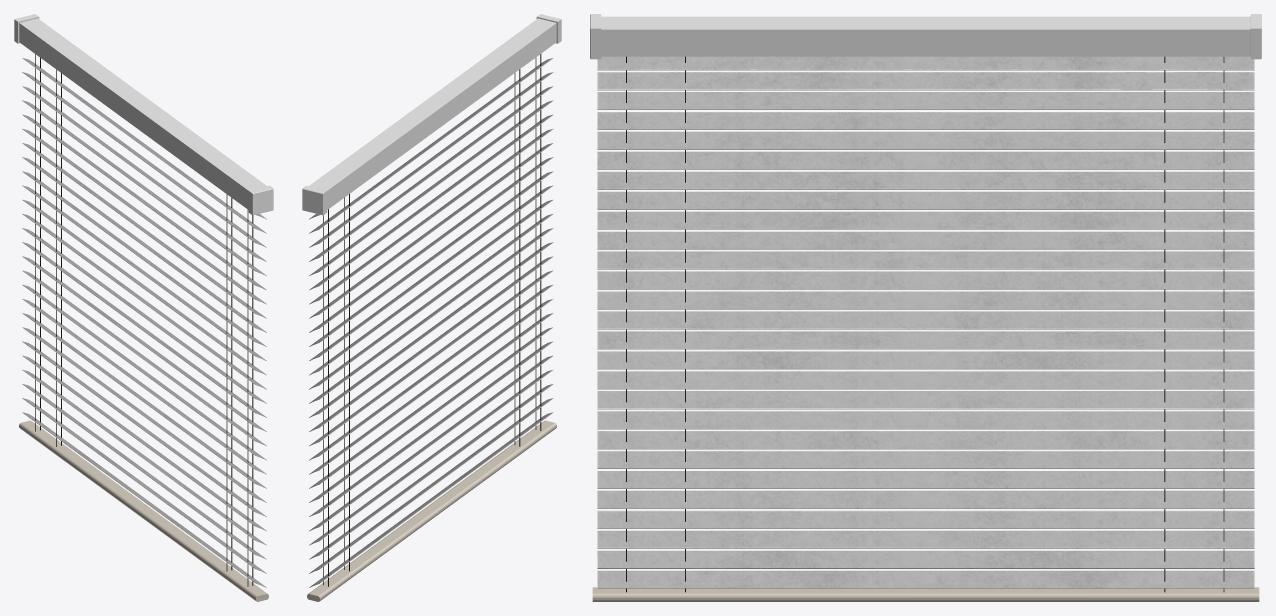
3 views of the same model, side by side, from view 1: azimuth 30°, elevation 25°; view 2: azimuth 150°, elevation 25°; view 3: azimuth 270°, elevation 25° (orthographic). The views are drawn at different scales.
Visible parts, largest first — view 1: Blinds; view 2: Blinds; view 3: Blinds.
Boxes of the visible parts, x1=… form: Blinds: x1=14, y1=14, x2=273, y2=601; Blinds: x1=302, y1=14, x2=561, y2=601; Blinds: x1=590, y1=14, x2=1261, y2=601.
Bounding box in the file's own units: 10.7 × 198 × 209.
1 material, 1 textured.
